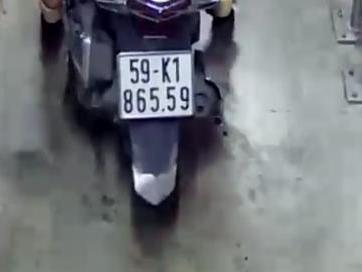num_plate: (116, 53, 195, 119)
